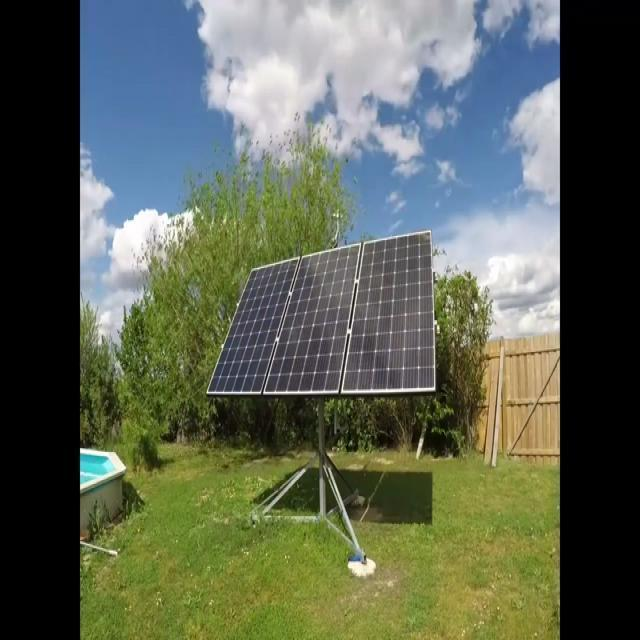Normal Solar Panel: (344, 232, 436, 395), (265, 244, 360, 395), (207, 257, 299, 396)
